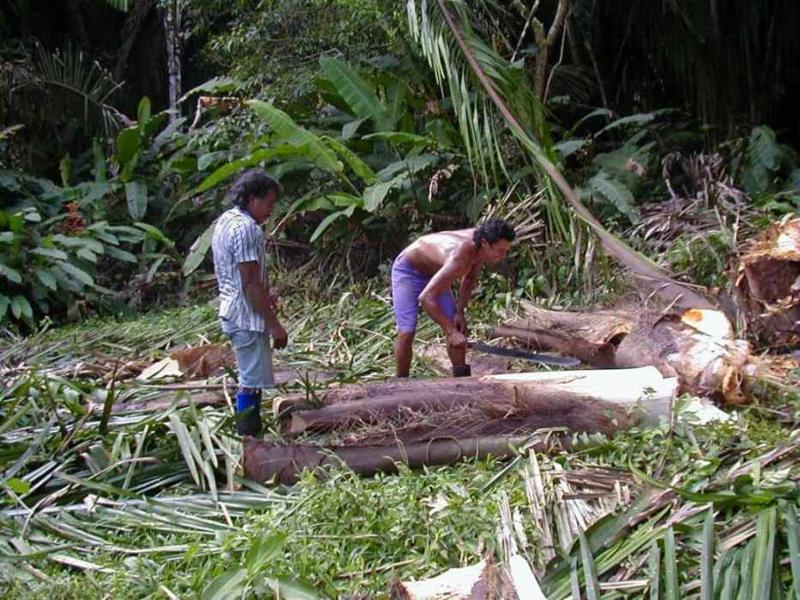person: (392, 217, 519, 379)
